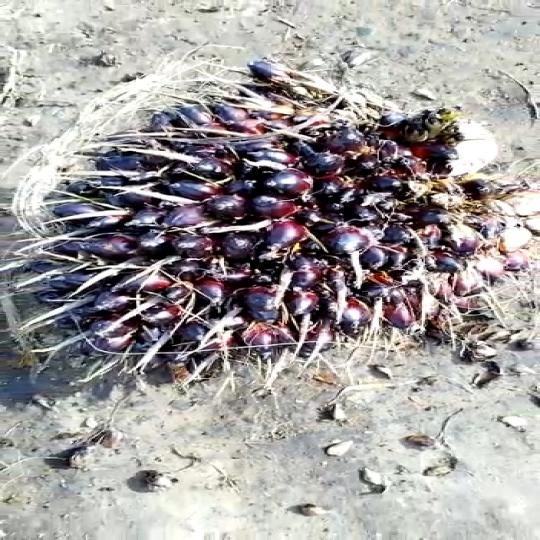mentah: (26, 53, 524, 376)
